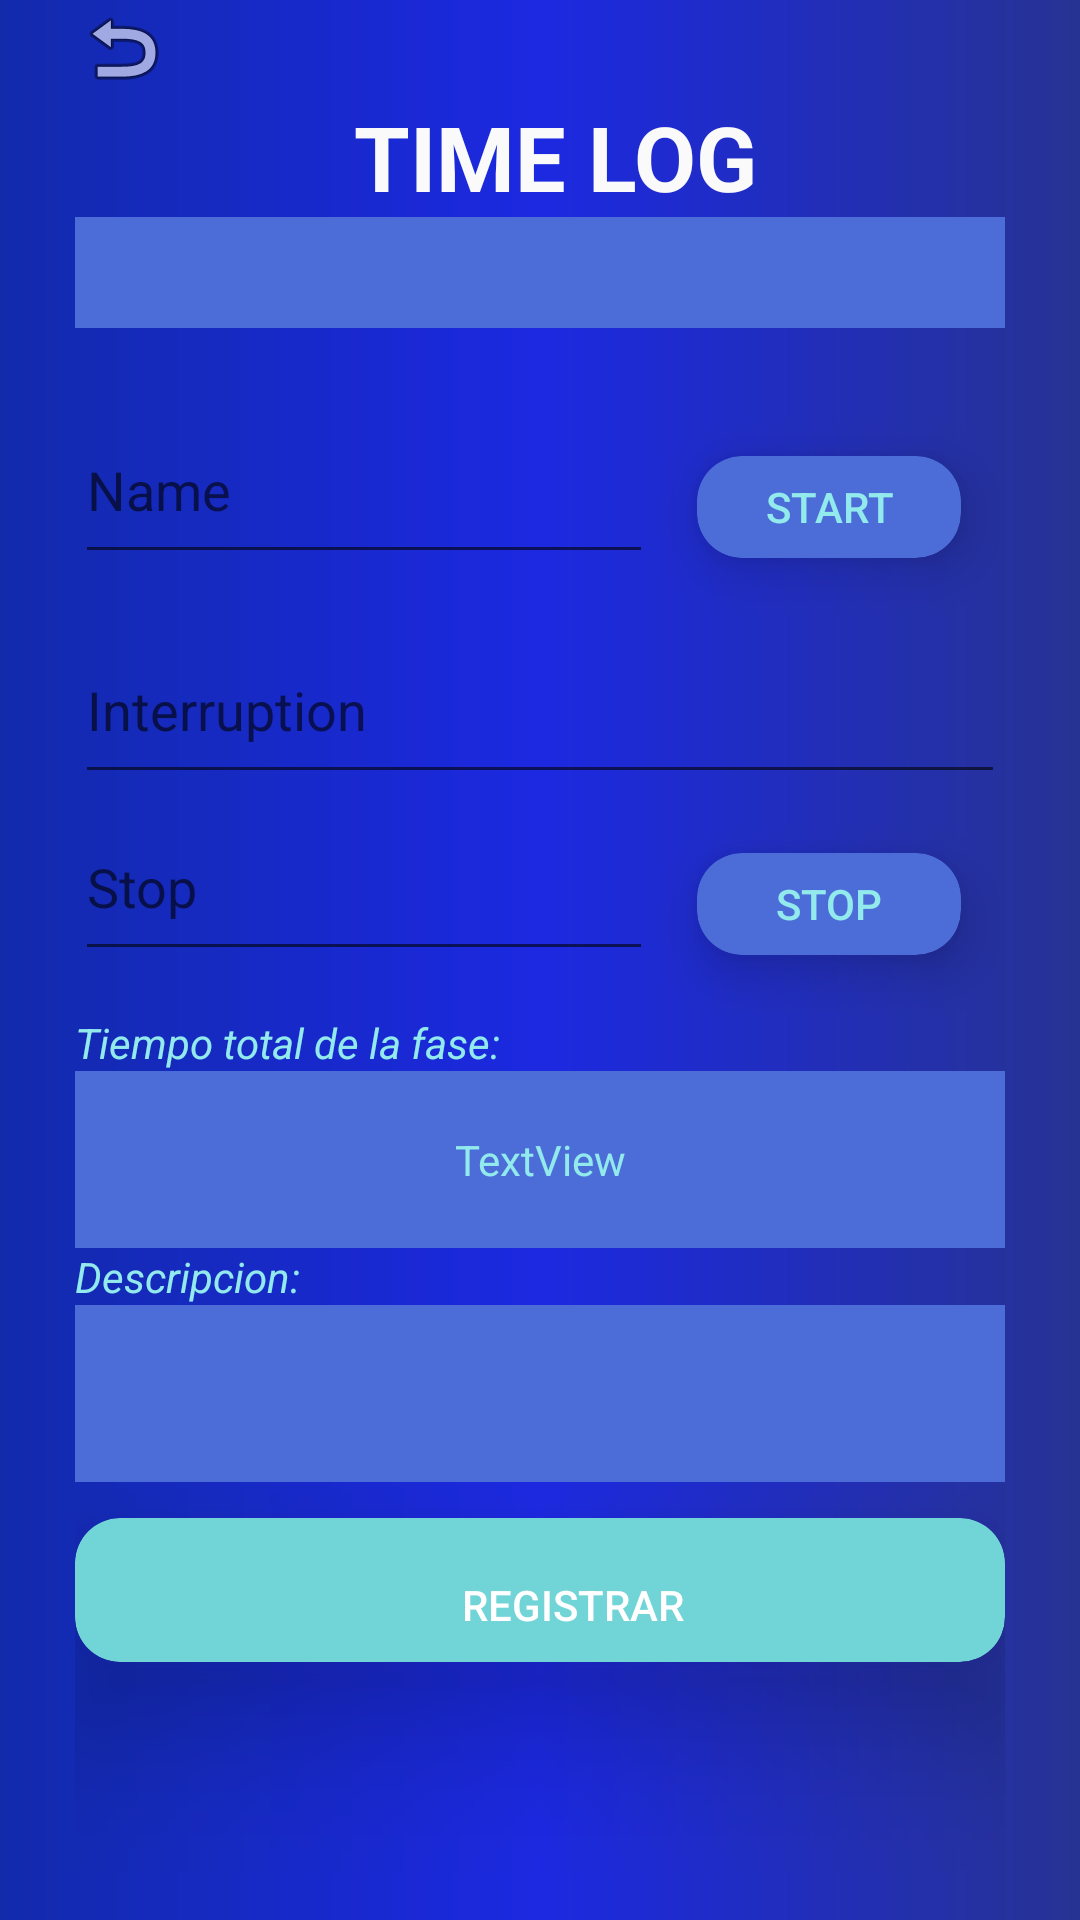

Where icons sit on this 1080px x 1920px app screen, as box=[x1, y1, x2, y2]:
atras: box=[90, 17, 159, 80]
